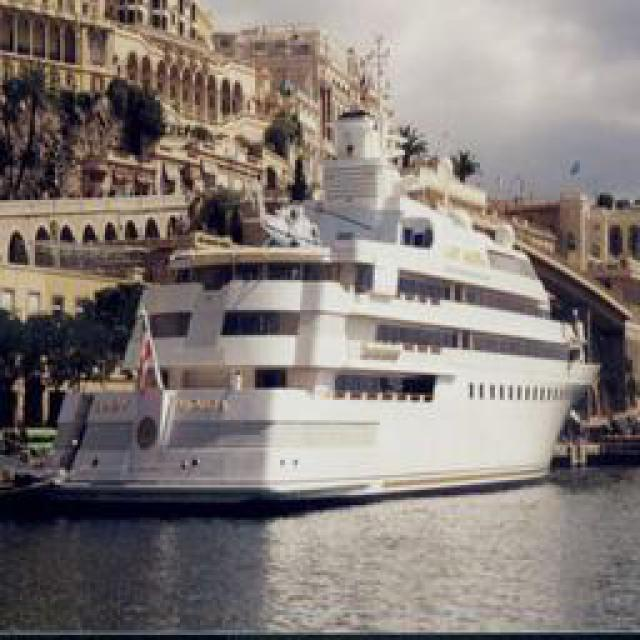Ship: (15, 160, 588, 503)
